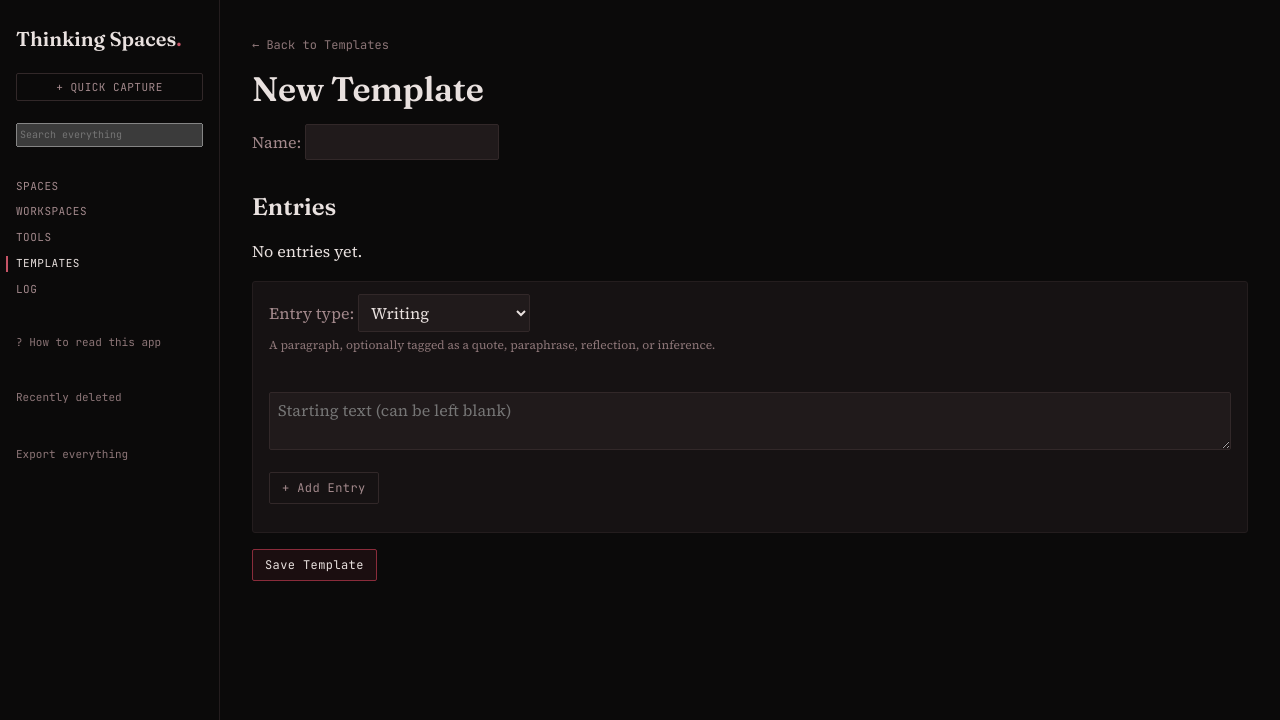
TemplateEditor: creating › shows an error and re-enables saving when creation fails
The width and height of the screenshot is (1280, 720).
Type "X" into the field labelled "Name:" at coordinates (402, 142), box [305,124,499,160]
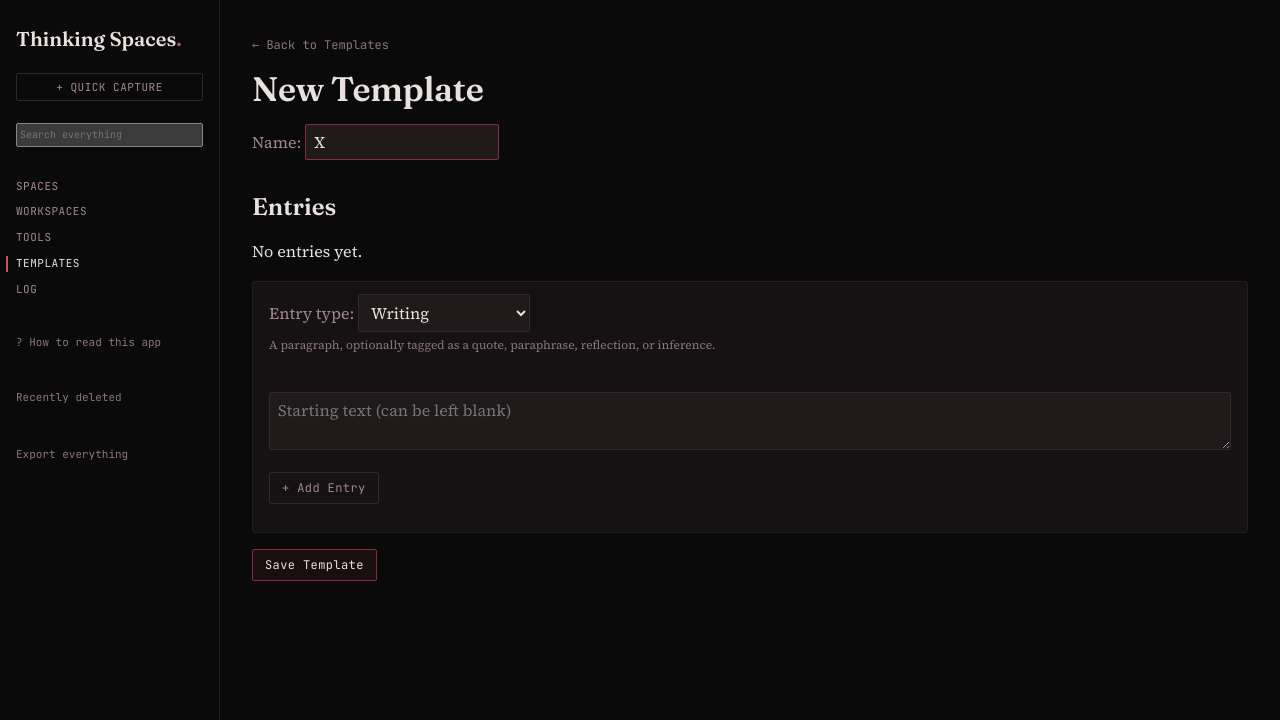
Click the button "Save Template" at coordinates (314, 565), box [252,549,377,581]
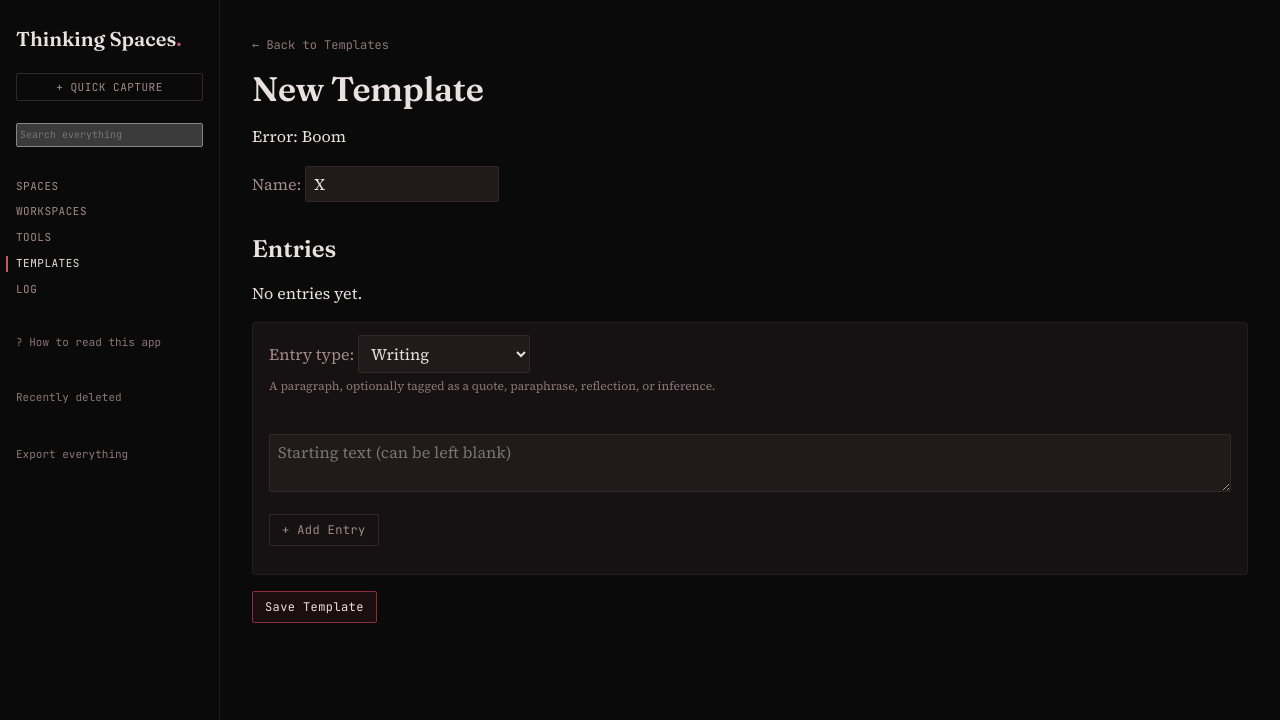
Check: the button "Save Template" is enabled, box [252,591,377,623]
Check: the text "Error: Boom" is shown, box [252,126,346,148]
